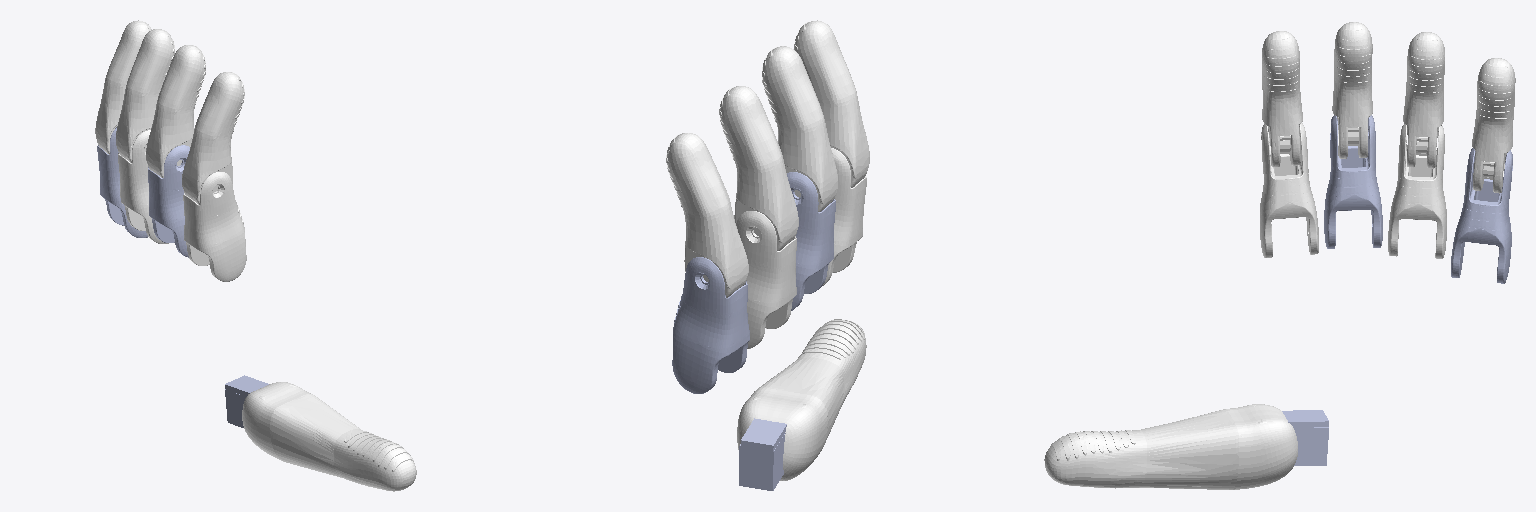
The robot description file, URDF, robot "URDF Final Assembly V13.SLDASM":
<?xml version='1.0' encoding='utf-8'?>
<robot name="URDF Final Assembly V13.SLDASM">
  <link name="Palm">
    <inertial>
      <origin xyz="-0.006004198475 -0.0004982397087 0.05038329322" rpy="0 0 0" />
      <mass value="0.283128265195557" />
      <inertia ixx="0.000287564837192637" ixy="-1.350641947e-06" ixz="2.60789464417926E-05" iyy="0.00018758839367272" iyz="6.922233858e-06" izz="0.00016182184678675" />
    </inertial>
    <visual>
      <origin xyz="0 0 0" rpy="0 0 0" />
      <geometry>
        <mesh filename="meshes/visual/palm_left.obj" />
      </geometry>
      <material name="">
        <color rgba="1 1 1 1" />
      </material>
    </visual>
    <collision>
      <origin xyz="0 0 0" rpy="0 0 0" />
      <geometry>
        <mesh filename="meshes/collision/palm_left_collide_vhacd.obj" />
      </geometry>
    </collision>
  </link>
  <link name="Index_Proximal">
    <inertial>
      <origin xyz="0.012312 -0.00144 0.015605" rpy="0 0 0" />
      <mass value="0.2557" />
      <inertia ixx="4.2833E-06" ixy="7.57e-09" ixz="-8.0748E-08" iyy="4.5982E-06" iyz="2.8088e-07" izz="1.6265E-06" />
    </inertial>
    <visual>
      <origin xyz="0 0 0" rpy="0 0 0" />
      <geometry>
        <mesh filename="meshes/visual/index_finger_proximal_left.obj" />
      </geometry>
      <material name="">
        <color rgba="1 1 1 1" />
      </material>
    </visual>
    <collision>
      <origin xyz="0 0 0" rpy="0 0 0" />
      <geometry>
        <mesh filename="meshes/collision/index_proximal_left_collide_vhacd.obj" />
      </geometry>
    </collision>
  </link>
  <joint name="Index_MCP_Joint" type="revolute">
    <origin xyz="-0.009296324611 -0.03228633069 0.1043424847" rpy="-0.04713285847 -0.1929221095 0.07452510723" />
    <parent link="Palm" />
    <child link="Index_Proximal" />
    <axis xyz="-0 0.9956409868 0.09326856646" />
    <limit lower="0" upper="1.774" effort="0" velocity="0" />
  </joint>
  <link name="Index_Distal">
    <inertial>
      <origin xyz="0.002458533064 4.187816555e-07 0.01899365379" rpy="0 0 0" />
      <mass value="0.162350311115962" />
      <inertia ixx="1.8466183514147E-06" ixy="7.237290067e-12" ixz="-3.4435261146249E-07" iyy="1.98212521922435E-06" iyz="2.184039049e-11" izz="3.32767630758346E-07" />
    </inertial>
    <visual>
      <origin xyz="0 0 0" rpy="0 0 0" />
      <geometry>
        <mesh filename="meshes/visual/index_finger_distal.obj" />
      </geometry>
      <material name="">
        <color rgba="1 1 1 1" />
      </material>
    </visual>
    <collision>
      <origin xyz="0 0 0" rpy="0 0 0" />
      <geometry>
        <mesh filename="meshes/collision/index_distal_collide_vhacd.obj" />
      </geometry>
    </collision>
  </link>
  <joint name="Index_PIP_Joint" type="revolute">
    <origin xyz="0.0006205491707 -0.003209529451 0.03413946617" rpy="0.09551814035 0.2104590664 0.02001282243" />
    <parent link="Index_Proximal" />
    <child link="Index_Distal" />
    <axis xyz="0 1 0" />
    <limit lower="0" upper="1.571" effort="0" velocity="0" />
  </joint>
  <link name="Middle_Proximal">
    <inertial>
      <origin xyz="0.01231250812 2.175662858e-05 0.01567062551" rpy="0 0 0" />
      <mass value="0.1255696641629694" />
      <inertia ixx="4.28322654679413E-06" ixy="-6.891900511e-12" ixz="-8.10707532421487E-08" iyy="4.62440324709858E-06" iyz="3.380208565e-11" izz="1.60017622490279E-06" />
    </inertial>
    <visual>
      <origin xyz="0 0 0" rpy="0 0 0" />
      <geometry>
        <mesh filename="meshes/visual/middle_finger_proximal.obj" />
      </geometry>
      <material name="">
        <color rgba="0.792156862745098 0.819607843137255 0.933333333333333 1" />
      </material>
    </visual>
    <collision>
      <origin xyz="0 0 0" rpy="0 0 0" />
      <geometry>
        <mesh filename="meshes/collision/middle_proximal_collide_vhacd.obj" />
      </geometry>
    </collision>
  </link>
  <joint name="Middle_MCP_Joint" type="revolute">
    <origin xyz="-0.0120427537 -0.009449337915 0.1062508813" rpy="0.0009147286853 -0.1802730583 0.0465850255" />
    <parent link="Palm" />
    <child link="Middle_Proximal" />
    <axis xyz="0 1 0" />
    <limit lower="0" upper="1774" effort="0" velocity="0" />
  </joint>
  <link name="Middle_Distal">
    <inertial>
      <origin xyz="0.002458531517 4.193058772e-07 0.01899365422" rpy="0 0 0" />
      <mass value="0.10862350138399462" />
      <inertia ixx="1.84661785055326E-06" ixy="7.221273274e-12" ixz="-3.44352616543183E-07" iyy="1.98212468335388E-06" iyz="2.190177412e-11" izz="3.32767571423503E-07" />
    </inertial>
    <visual>
      <origin xyz="0 0 0" rpy="0 0 0" />
      <geometry>
        <mesh filename="meshes/visual/middle_finger_distal.obj" />
      </geometry>
      <material name="">
        <color rgba="1 1 1 1" />
      </material>
    </visual>
    <collision>
      <origin xyz="0 0 0" rpy="0 0 0" />
      <geometry>
        <mesh filename="meshes/collision/middle_distal_collide_vhacd.obj" />
      </geometry>
    </collision>
  </link>
  <joint name="Middle_PIP_Joint" type="revolute">
    <origin xyz="0.0006205491707 -1.14e-05 0.03429" rpy="0 0.189617527172128 0" />
    <parent link="Middle_Proximal" />
    <child link="Middle_Distal" />
    <axis xyz="0 1 0" />
    <limit lower="0" upper="1.571" effort="0" velocity="0" />
  </joint>
  <link name="Ring_Proximal">
    <inertial>
      <origin xyz="0.01231252075 2.178237186e-05 0.01567069324" rpy="0 0 0" />
      <mass value=".1255697387508071" />
      <inertia ixx="4.28323805639626E-06" ixy="-1.011764463e-11" ixz="-8.10600099492174E-08" iyy="4.62442001199592E-06" iyz="4.760889312e-11" izz="1.60017993990507E-06" />
    </inertial>
    <visual>
      <origin xyz="0 0 0" rpy="0 0 0" />
      <geometry>
        <mesh filename="meshes/visual/ring_finger_proximal.obj" />
      </geometry>
      <material name="">
        <color rgba="1 1 1 1" />
      </material>
    </visual>
    <collision>
      <origin xyz="0 0 0" rpy="0 0 0" />
      <geometry>
        <mesh filename="meshes/collision/ring_proximal_collide_vhacd.obj" />
      </geometry>
    </collision>
  </link>
  <joint name="Ring_MCP_Joint" type="revolute">
    <origin xyz="-0.01168477424 0.01335626318 0.1027512591" rpy="-0.0459314437 -0.1817804613 -0.0190423185" />
    <parent link="Palm" />
    <child link="Ring_Proximal" />
    <axis xyz="0 1 0" />
    <limit lower="0" upper="1.774" effort="0" velocity="0" />
  </joint>
  <link name="Ring_Distal">
    <inertial>
      <origin xyz="0.002458530751 4.182757924e-07 0.01899366179" rpy="0 0 0" />
      <mass value="0.10862350282783975" />
      <inertia ixx="1.84661792068038E-06" ixy="7.251218505e-12" ixz="-3.44352852865657E-07" iyy="1.98212484891192E-06" iyz="2.164675917e-11" izz="3.32767548883008E-07" />
    </inertial>
    <visual>
      <origin xyz="0 0 0" rpy="0 0 0" />
      <geometry>
        <mesh filename="meshes/visual/ring_finger_distal.obj" />
      </geometry>
      <material name="">
        <color rgba="1 1 1 1" />
      </material>
    </visual>
    <collision>
      <origin xyz="0 0 0" rpy="0 0 0" />
      <geometry>
        <mesh filename="meshes/collision/ring_distal_collide_vhacd.obj" />
      </geometry>
    </collision>
  </link>
  <joint name="Ring_PIP_Joint" type="revolute">
    <origin xyz="0.0006205491707 1.14e-05 0.03429" rpy="0 0.197449031308958 0" />
    <parent link="Ring_Proximal" />
    <child link="Ring_Distal" />
    <axis xyz="0 1 0" />
    <limit lower="0" upper="1.571" effort="0" velocity="0" />
  </joint>
  <link name="Pinky_Proximal">
    <inertial>
      <origin xyz="0.01231248979 2.179876626e-05 0.01567073156" rpy="0 0 0" />
      <mass value="0.1255698137333334" />
      <inertia ixx="4.28327141651743E-06" ixy="-1.177930087e-11" ixz="-8.10692182361396E-08" iyy="4.62445427227366E-06" iyz="4.143609231e-11" izz="1.60018235924362E-06" />
    </inertial>
    <visual>
      <origin xyz="0 0 0" rpy="0 0 0" />
      <geometry>
        <mesh filename="meshes/visual/pinky_proximal.obj" />
      </geometry>
      <material name="">
        <color rgba="0.792156862745098 0.819607843137255 0.933333333333333 1" />
      </material>
    </visual>
    <collision>
      <origin xyz="0 0 0" rpy="0 0 0" />
      <geometry>
        <mesh filename="meshes/collision/pinky_proximal_collide_vhacd.obj" />
      </geometry>
    </collision>
  </link>
  <joint name="Pinky_MCP_Joint" type="revolute">
    <origin xyz="-0.007995702726 0.0359407309 0.09528070219" rpy="-0.08457135686 -0.1669532087 -0.09379690391" />
    <parent link="Palm" />
    <child link="Pinky_Proximal" />
    <axis xyz="0 1 0" />
    <limit lower="0" upper="1.774" effort="0" velocity="0" />
  </joint>
  <link name="Pinky_Distal">
    <inertial>
      <origin xyz="0.002458533165 4.167613492e-07 0.01899366625" rpy="0 0 0" />
      <mass value="0.1162350966741739" />
      <inertia ixx="1.84661928481475E-06" ixy="7.250168674e-12" ixz="-3.44352811897793E-07" iyy="1.98212629187236E-06" iyz="2.147998569e-11" izz="3.32767712964309E-07" />
    </inertial>
    <visual>
      <origin xyz="0 0 0" rpy="0 0 0" />
      <geometry>
        <mesh filename="meshes/visual/pinky_distal.obj" />
      </geometry>
      <material name="">
        <color rgba="1 1 1 1" />
      </material>
    </visual>
    <collision>
      <origin xyz="0 0 0" rpy="0 0 0" />
      <geometry>
        <mesh filename="meshes/collision/pinky_distal_collide_vhacd.obj" />
      </geometry>
    </collision>
  </link>
  <joint name="Pinky_PIP_Joint" type="revolute">
    <origin xyz="0.00062055 -1.14e-05 0.03429" rpy="0 0.19757 0" />
    <parent link="Pinky_Proximal" />
    <child link="Pinky_Distal" />
    <axis xyz="0 1 0" />
    <limit lower="0" upper="1.571" effort="0" velocity="0" />
  </joint>
  <link name="Metacarpal">
    <inertial>
      <origin xyz="8.596156009e-05 -0.007492267552 0.0006937953851" rpy="0 0 0" />
      <mass value="0.10455898019372728" />
      <inertia ixx="4.15932525574432E-07" ixy="-1.748577897e-09" ixz="5.64846087992515E-10" iyy="1.42106909934071E-07" iyz="3.778813301e-08" izz="3.72950561408405E-07" />
    </inertial>
    <visual>
      <origin xyz="0 0 0" rpy="0 0 0" />
      <geometry>
        <mesh filename="meshes/visual/Metacarpal_left.STL" />
      </geometry>
      <material name="">
        <color rgba="0.792156862745098 0.819607843137255 0.933333333333333 1" />
      </material>
    </visual>
    <collision>
      <origin xyz="0 0 0" rpy="0 0 0" />
      <geometry>
        <mesh filename="meshes/visual/Metacarpal_left.STL" />
      </geometry>
    </collision>
  </link>
  <joint name="Metacarpal_Joint" type="revolute">
    <origin xyz="0.0079928 -0.025391 0.032434" rpy="-0.074184 -0.038292 0.22638" />
    <parent link="Palm" />
    <child link="Metacarpal" />
    <axis xyz="-0 0 1" />
    <limit lower="0" upper="1.774" effort="0" velocity="0" />
  </joint>
  <link name="Thumb">
    <inertial>
      <origin xyz="0.01501089956 6.942219276e-05 -0.006338044757" rpy="0 0 0" />
      <mass value="0.1599545776835582" />
      <inertia ixx="4.33243046860296E-06" ixy="8.3435174e-09" ixz="9.093059581493E-07" iyy="1.62169307375563E-05" iyz="-4.590781105e-09" izz="1.61222265640691E-05" />
    </inertial>
    <visual>
      <origin xyz="0 0 0" rpy="0 0 0" />
      <geometry>
        <mesh filename="meshes/visual/thumb_left.obj" />
      </geometry>
      <material name="">
        <color rgba="1 1 1 1" />
      </material>
    </visual>
    <collision>
      <origin xyz="0 0 0" rpy="0 0 0" />
      <geometry>
        <mesh filename="meshes/collision/thumb_left_collide_vhacd.obj" />
      </geometry>
    </collision>
  </link>
  <joint name="Thumb_Joint" type="revolute">
    <origin xyz="0 -0.01905 0.0022926" rpy="-0 0 -1.5708" />
    <parent link="Metacarpal" />
    <child link="Thumb" />
    <axis xyz="0 -1 0" />
    <limit lower="0" upper="1.774" effort="0" velocity="0" />
  </joint>
</robot>

--- Render facts (derived) ---
Views: 3 orthographic renders of the robot side by side, from view 1: azimuth 30°, elevation 25°; view 2: azimuth 150°, elevation 25°; view 3: azimuth 270°, elevation 25°.
Robot: URDF Final Assembly V13.SLDASM — 11 links, 10 joints (10 revolute); root link Palm; default pose: every joint at zero.
Visible links, largest first — view 1: Thumb, Index_Proximal, Index_Distal, Middle_Distal, Ring_Distal, Middle_Proximal, Pinky_Distal, Ring_Proximal, Pinky_Proximal, Metacarpal; view 2: Thumb, Pinky_Proximal, Pinky_Distal, Ring_Distal, Middle_Distal, Index_Distal, Ring_Proximal, Middle_Proximal, Metacarpal, Index_Proximal; view 3: Thumb, Middle_Distal, Index_Distal, Ring_Distal, Pinky_Distal, Pinky_Proximal, Middle_Proximal, Index_Proximal, Ring_Proximal, Metacarpal.
Boxes of the visible links, <box> form: Thumb: <box>242,382,416,491</box>; Index_Proximal: <box>183,172,246,281</box>; Index_Distal: <box>182,72,244,204</box>; Middle_Distal: <box>146,45,205,177</box>; Ring_Distal: <box>116,29,174,162</box>; Middle_Proximal: <box>148,145,189,257</box>; Pinky_Distal: <box>95,20,151,154</box>; Ring_Proximal: <box>118,130,168,243</box>; Pinky_Proximal: <box>97,127,147,237</box>; Metacarpal: <box>225,375,268,427</box>; Thumb: <box>737,319,866,480</box>; Pinky_Proximal: <box>672,257,749,393</box>; Pinky_Distal: <box>666,133,748,297</box>; Ring_Distal: <box>719,86,798,250</box>; Middle_Distal: <box>762,46,837,211</box>; Index_Distal: <box>794,20,869,187</box>; Ring_Proximal: <box>736,211,796,348</box>; Middle_Proximal: <box>787,172,835,310</box>; Metacarpal: <box>739,418,786,490</box>; Index_Proximal: <box>823,148,866,285</box>; Thumb: <box>1044,404,1297,489</box>; Middle_Distal: <box>1332,22,1372,158</box>; Index_Distal: <box>1262,31,1302,166</box>; Ring_Distal: <box>1403,32,1444,168</box>; Pinky_Distal: <box>1472,58,1515,193</box>; Pinky_Proximal: <box>1451,148,1512,283</box>; Middle_Proximal: <box>1324,115,1382,248</box>; Index_Proximal: <box>1260,123,1318,257</box>; Ring_Proximal: <box>1388,123,1446,258</box>; Metacarpal: <box>1282,410,1328,465</box>.
Size in the robot's own frame: 0.0621 by 0.168 by 0.1711 metres.
Meshes: 11 distinct files referenced, 10 mesh visuals loaded (1 binary STL, 9 OBJ); not drawn: 1 (reference not matched to a file when rendering).